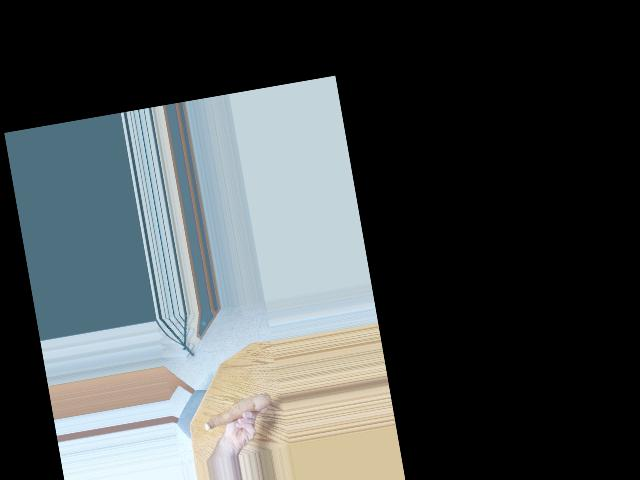sweet_potato: (200, 391, 275, 433)
